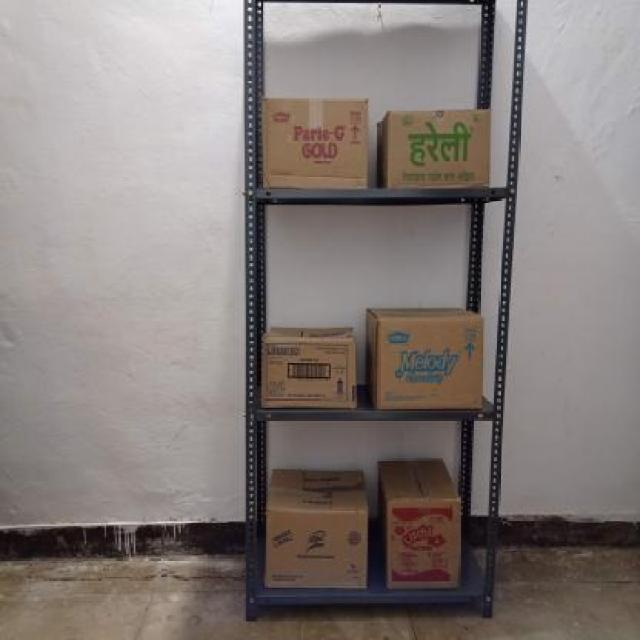box: (373, 316, 484, 410), (259, 95, 369, 189), (386, 108, 491, 188), (263, 508, 368, 586), (258, 335, 354, 408), (385, 496, 460, 589)
